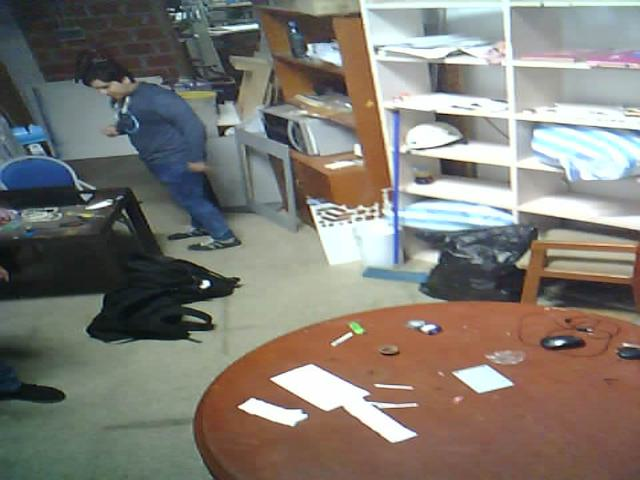person: (70, 48, 256, 268)
